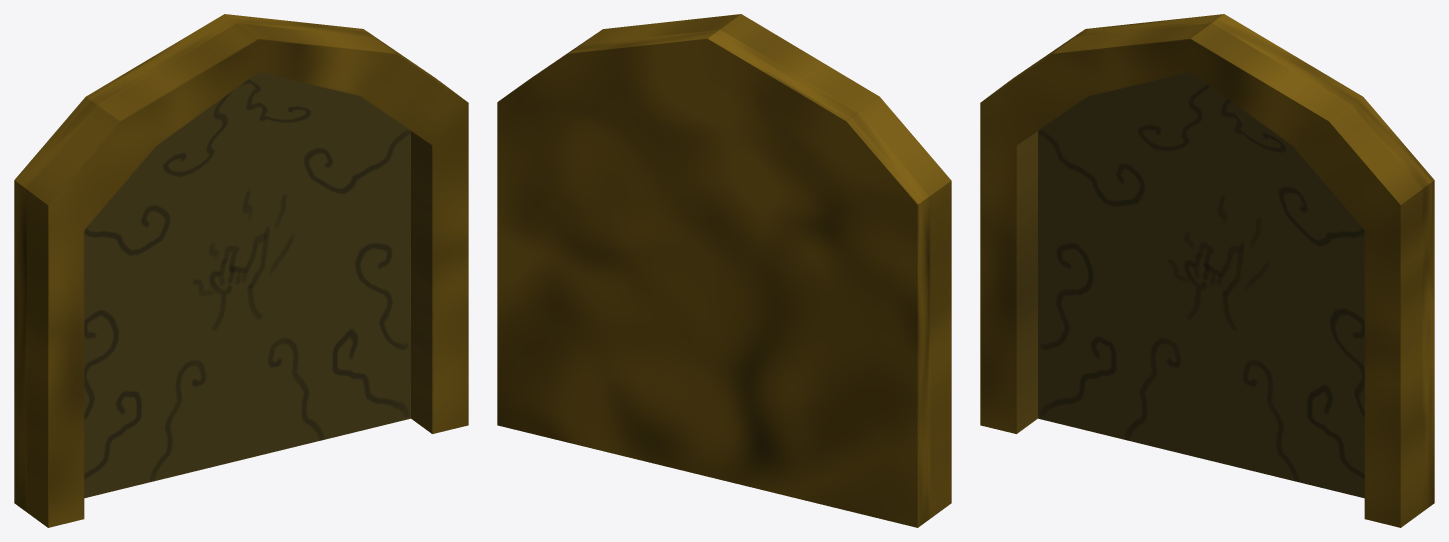
Rendered from Portao.fbx.
The picture shows the model from 3 angles, left to right: view 1: azimuth 30°, elevation 25°; view 2: azimuth 150°, elevation 25°; view 3: azimuth 330°, elevation 25°; orthographic projection.
Visible parts, largest first — view 1: Portão; view 2: Portão; view 3: Portão.
Boxes of the visible parts, x1=… form: Portão: x1=14, y1=14, x2=468, y2=527; Portão: x1=497, y1=14, x2=951, y2=527; Portão: x1=980, y1=14, x2=1434, y2=527.
Size of the model in its own units: 973 by 969 by 135.
